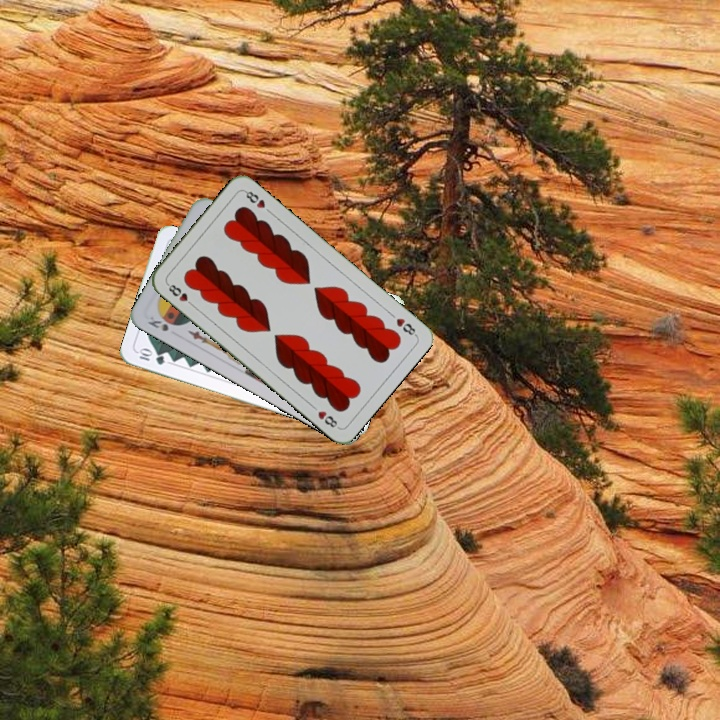G10: (135, 345, 167, 368)
H8: (163, 279, 197, 309), (385, 308, 419, 338)
SK: (144, 312, 171, 334)
